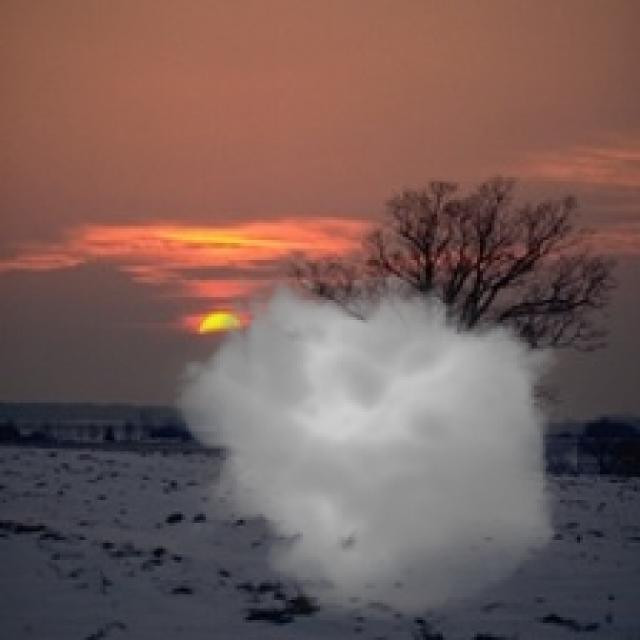smoke: (160, 260, 577, 631)
